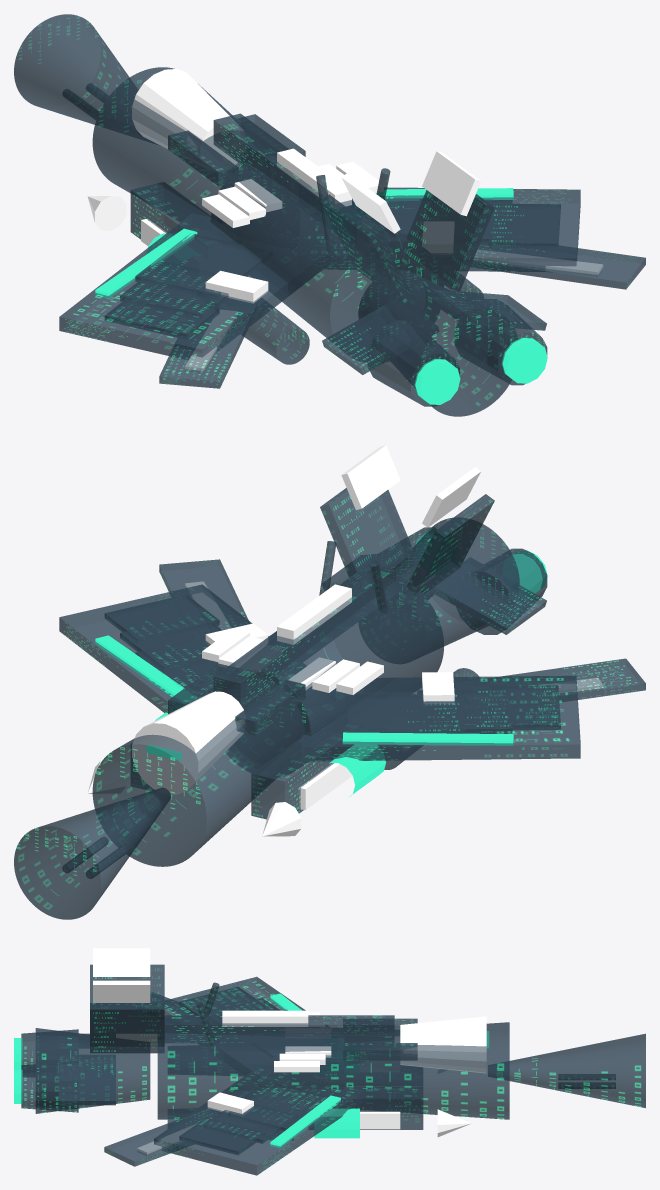
File: chasseur.glb
The picture shows the model from 3 angles, top to bottom: view 1: azimuth 30°, elevation 25°; view 2: azimuth 150°, elevation 25°; view 3: azimuth 270°, elevation 25°; orthographic projection. The views are drawn at different scales.
Visible parts, largest first — view 1: guerrier; view 2: guerrier; view 3: guerrier.
Boxes of the visible parts, box(x1,y1,x2,y2) form: guerrier: box(14, 14, 645, 416); guerrier: box(14, 445, 645, 919); guerrier: box(14, 948, 645, 1175).
Bounding box in the file's own units: 1.55 × 0.5794 × 2.2.
